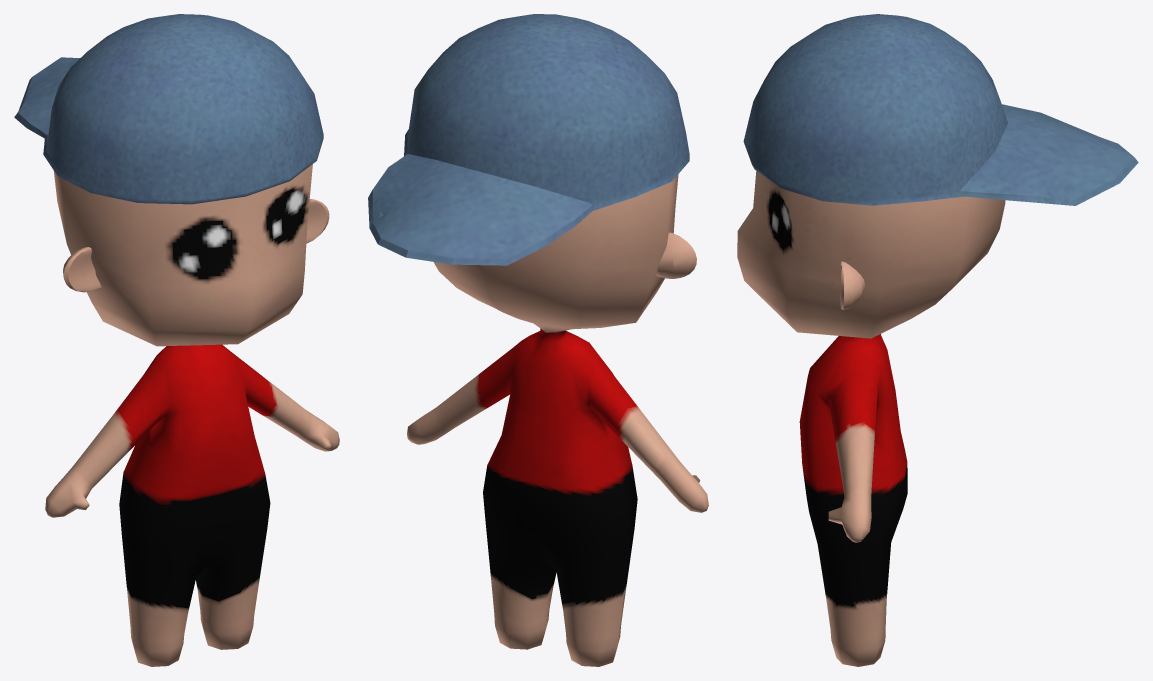
Rendered from avatar2.glb.
The picture shows the model from 3 angles, left to right: view 1: azimuth 30°, elevation 25°; view 2: azimuth 150°, elevation 25°; view 3: azimuth 270°, elevation 25°; orthographic projection. The views are drawn at different scales.
Parts seen in each view (by area): view 1: polySurface3, cap, polySurface4, polySurface1; view 2: polySurface3, cap, polySurface4; view 3: polySurface3, cap, polySurface1.
Part boxes in pixels (bbox=[...]): polySurface3: bbox=[45, 164, 339, 666]; cap: bbox=[14, 14, 323, 204]; polySurface4: bbox=[63, 247, 101, 292]; polySurface1: bbox=[306, 199, 329, 243]; polySurface3: bbox=[407, 174, 708, 666]; cap: bbox=[368, 14, 689, 265]; polySurface4: bbox=[656, 232, 696, 278]; polySurface3: bbox=[737, 171, 1005, 666]; cap: bbox=[743, 14, 1138, 205]; polySurface1: bbox=[840, 261, 865, 309].
Size of the model in its own units: 4.45 by 9.02 by 5.31.
Materials: 1 (1 with a texture image).
